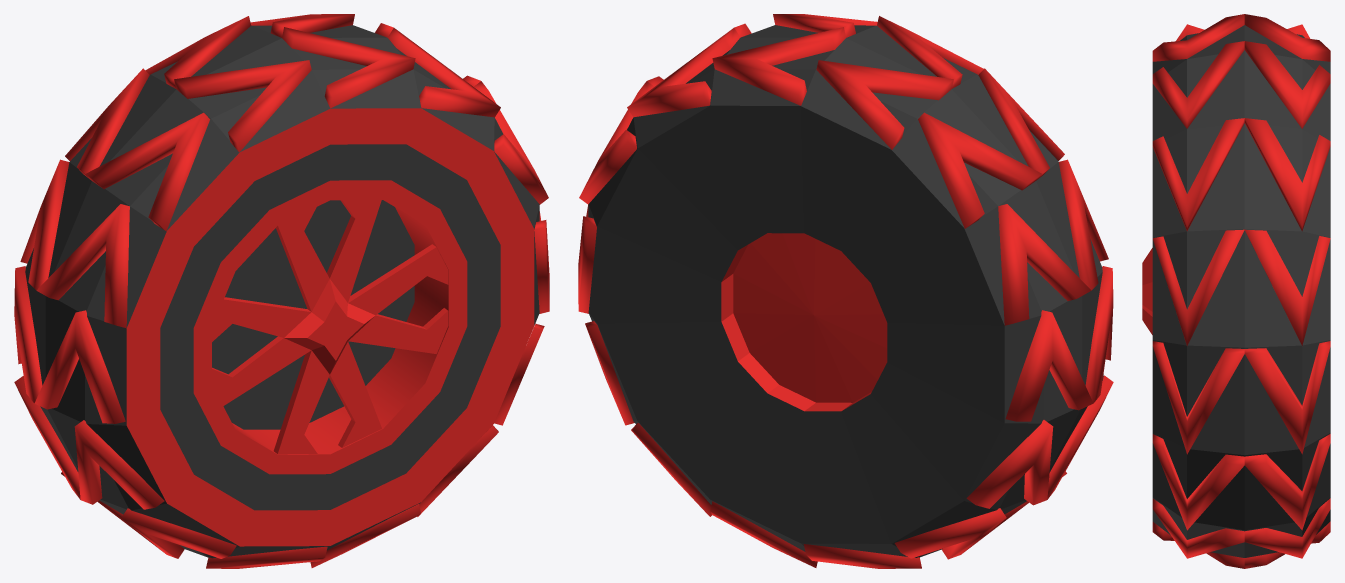
The model's file is wheel23.fbx.
3 renders of one model, left to right at view 1: azimuth 30°, elevation 25°; view 2: azimuth 150°, elevation 25°; view 3: azimuth 270°, elevation 25°, orthographic. The views are drawn at different scales.
Parts seen in each view (by area): view 1: lanot_wheel22_L; view 2: lanot_wheel22_L; view 3: lanot_wheel22_L.
Boxes of the visible parts, x1,y1,x2,y2 form: lanot_wheel22_L: [14, 14, 549, 568]; lanot_wheel22_L: [578, 14, 1113, 568]; lanot_wheel22_L: [1142, 14, 1330, 568].
Bounding box in the file's own units: 152 × 155 × 52.74.
